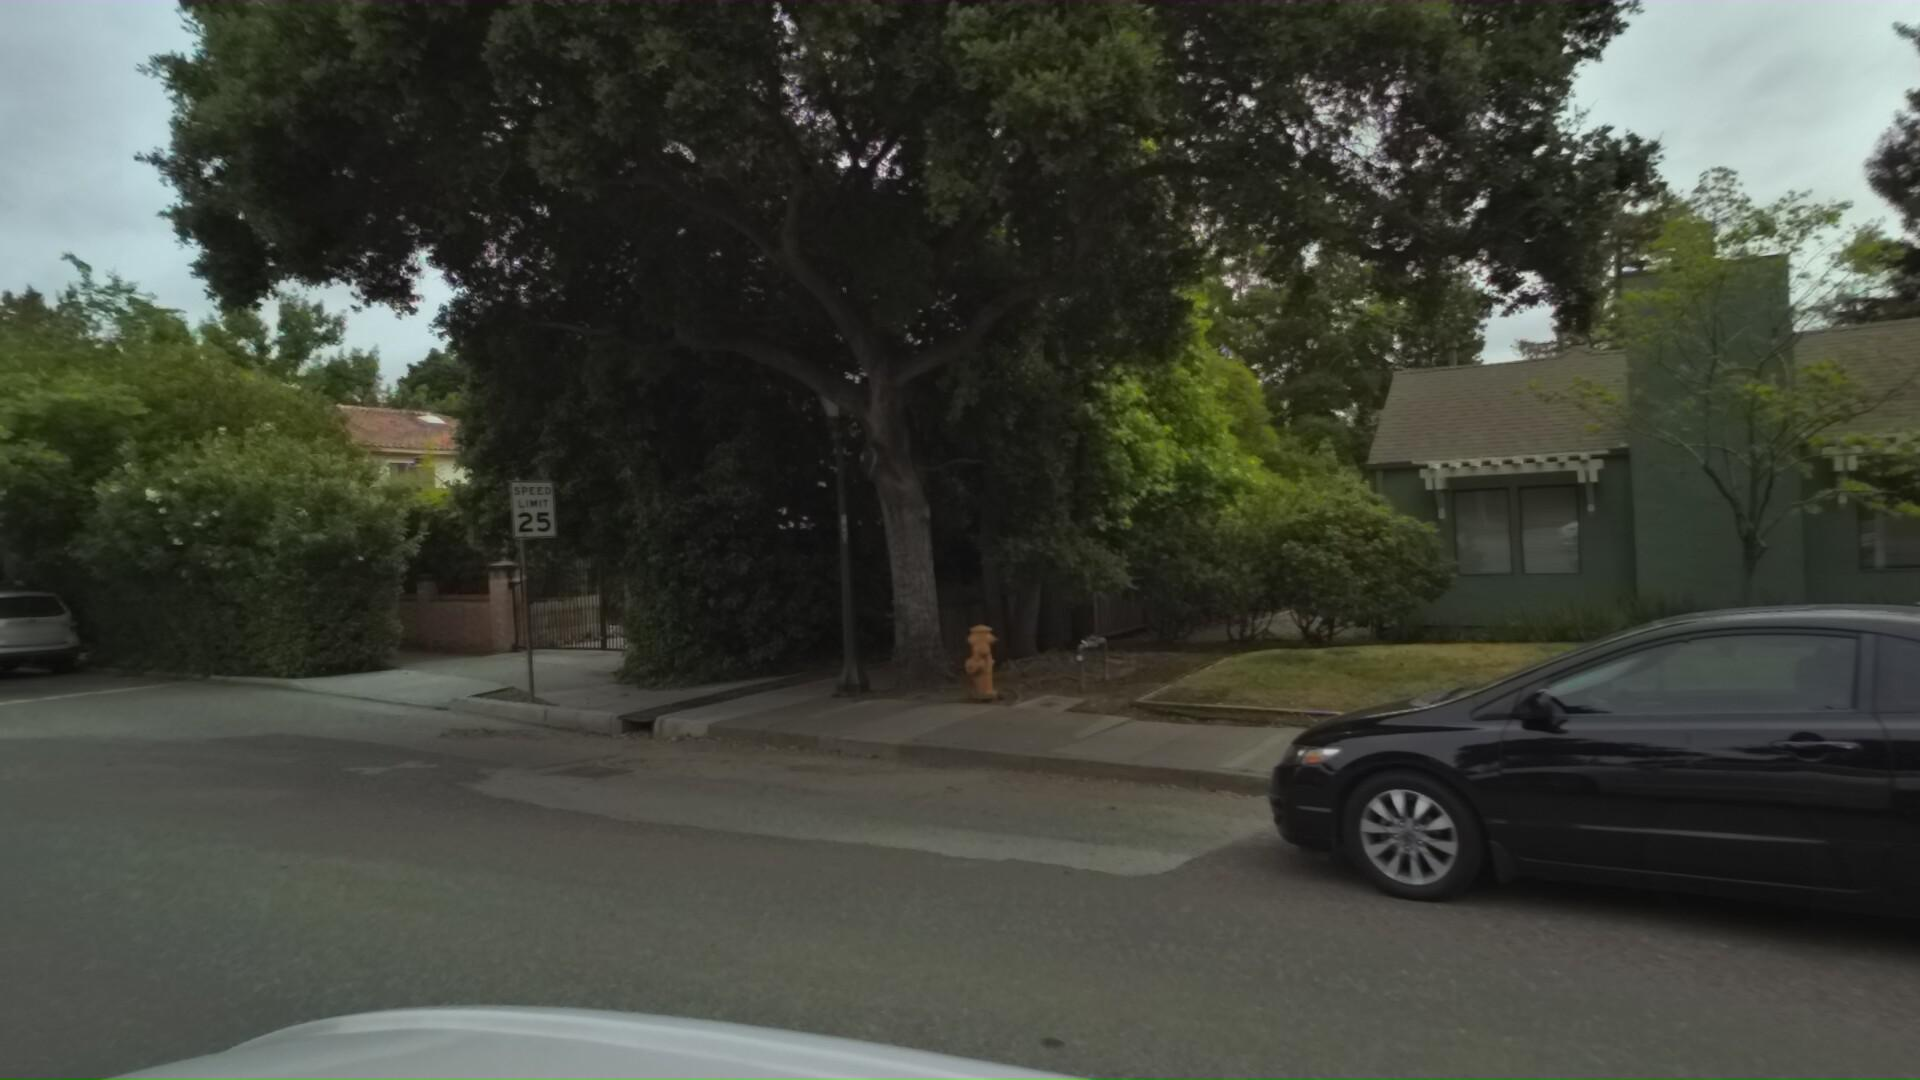car: (1300, 576, 1920, 1080), (0, 575, 105, 687)
